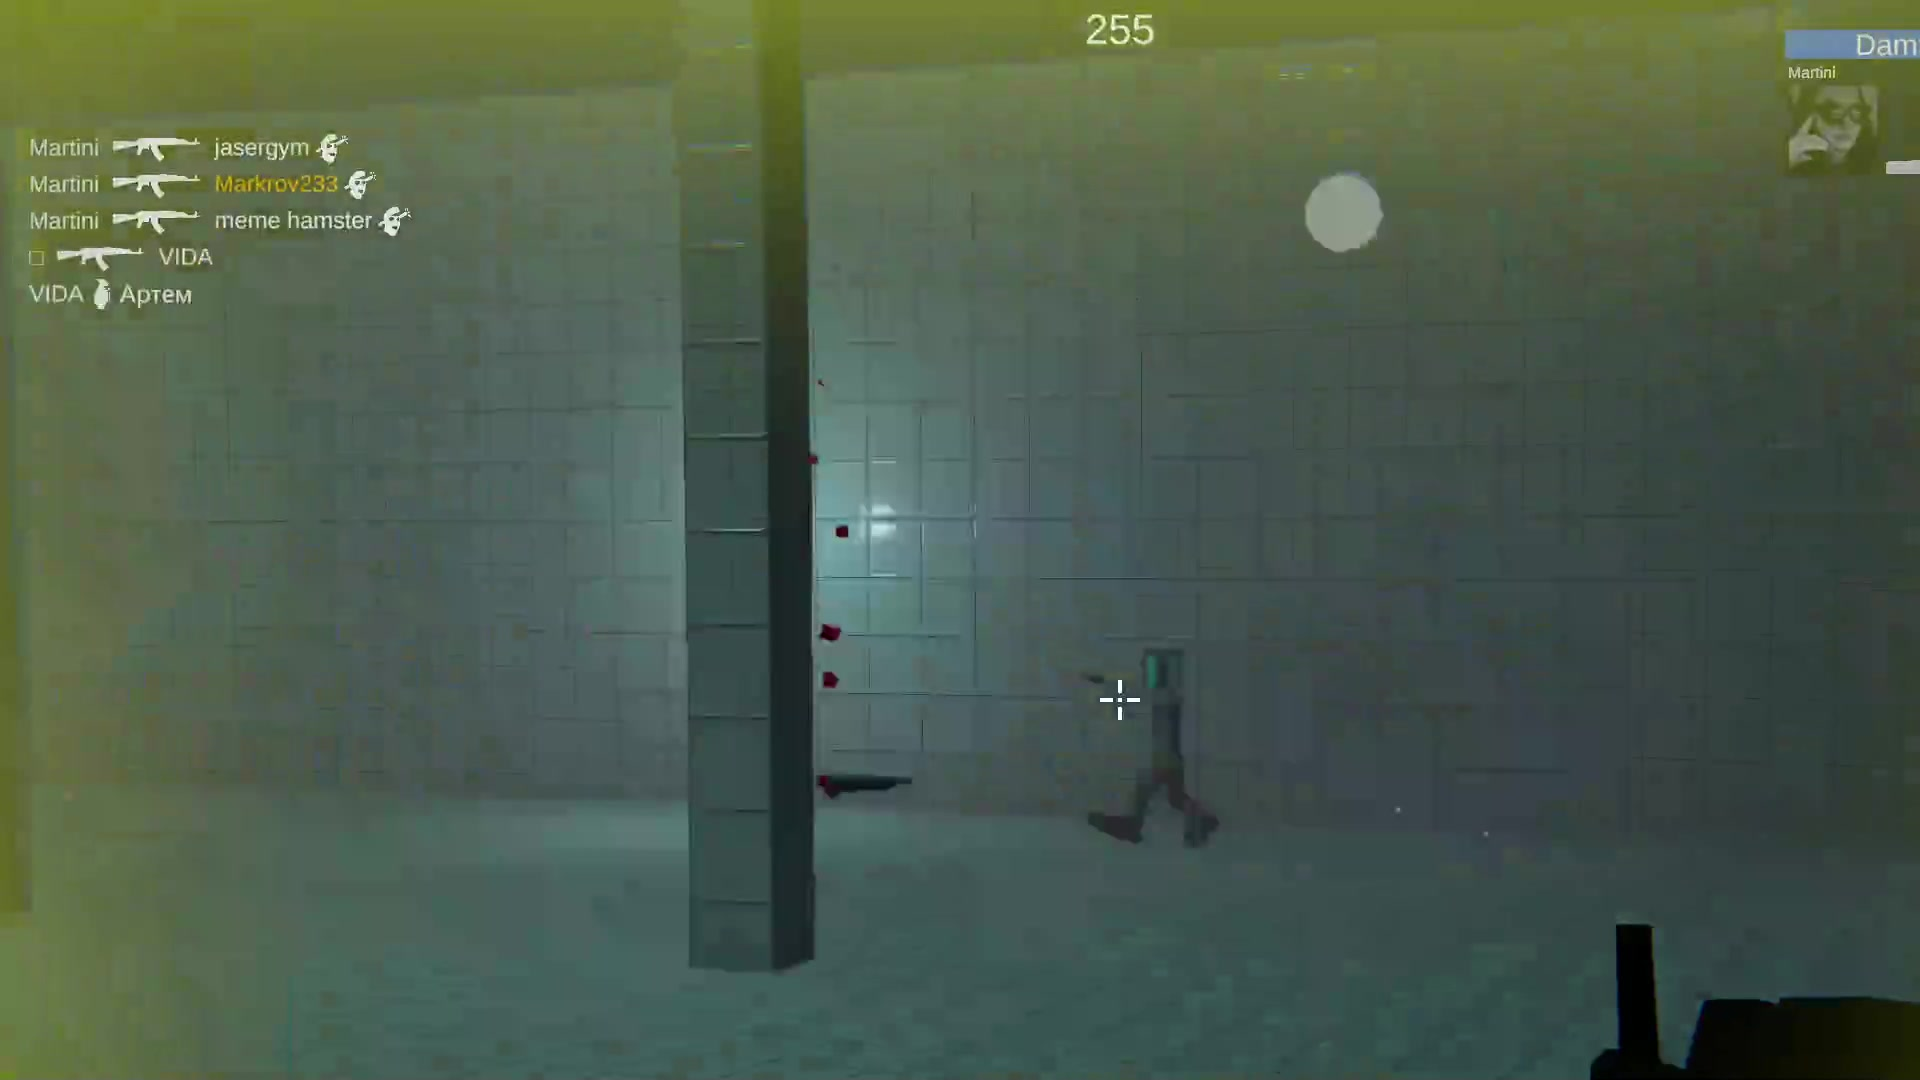human: (1128, 653, 1213, 850)
